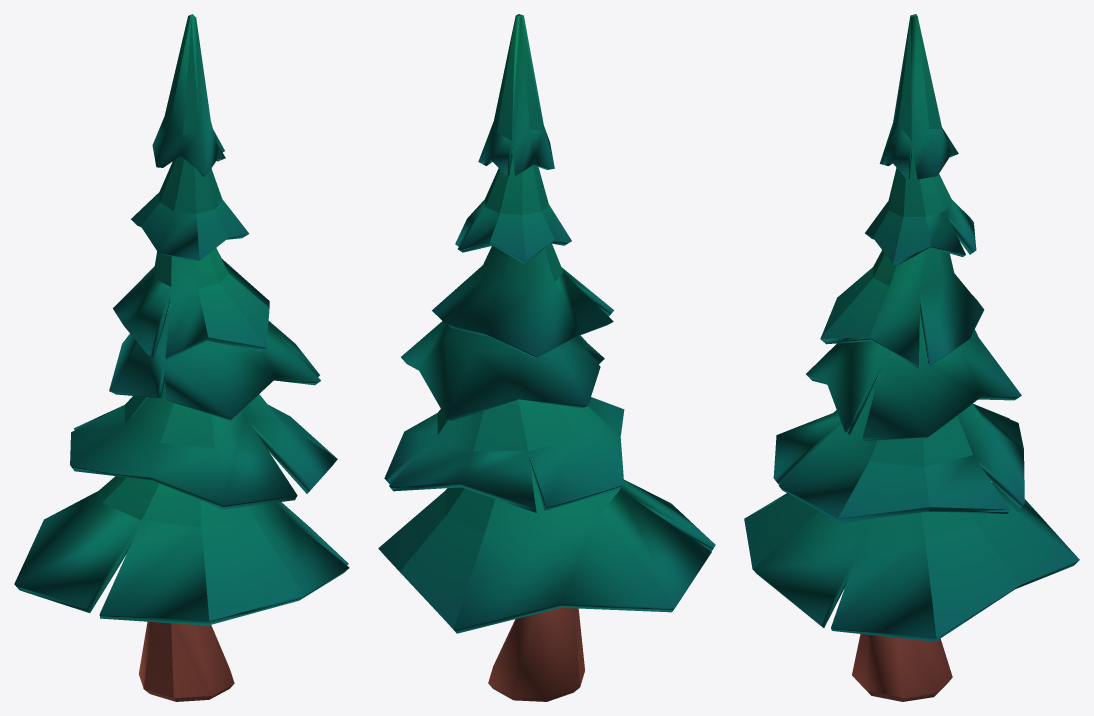
Rendered from pine_tree_blue.glb.
3 views of the same model, side by side, from view 1: azimuth 30°, elevation 25°; view 2: azimuth 150°, elevation 25°; view 3: azimuth 270°, elevation 25° (orthographic).
Visible parts, largest first — view 1: tree_111; view 2: tree_111; view 3: tree_111.
Boxes of the visible parts, x1,y1,x2,y2 form: tree_111: (14, 14, 349, 701); tree_111: (378, 14, 715, 701); tree_111: (744, 14, 1079, 701).
Bounding box in the file's own units: 7.5 × 16.12 × 7.28.
Materials: 2 (2 with a texture image).
